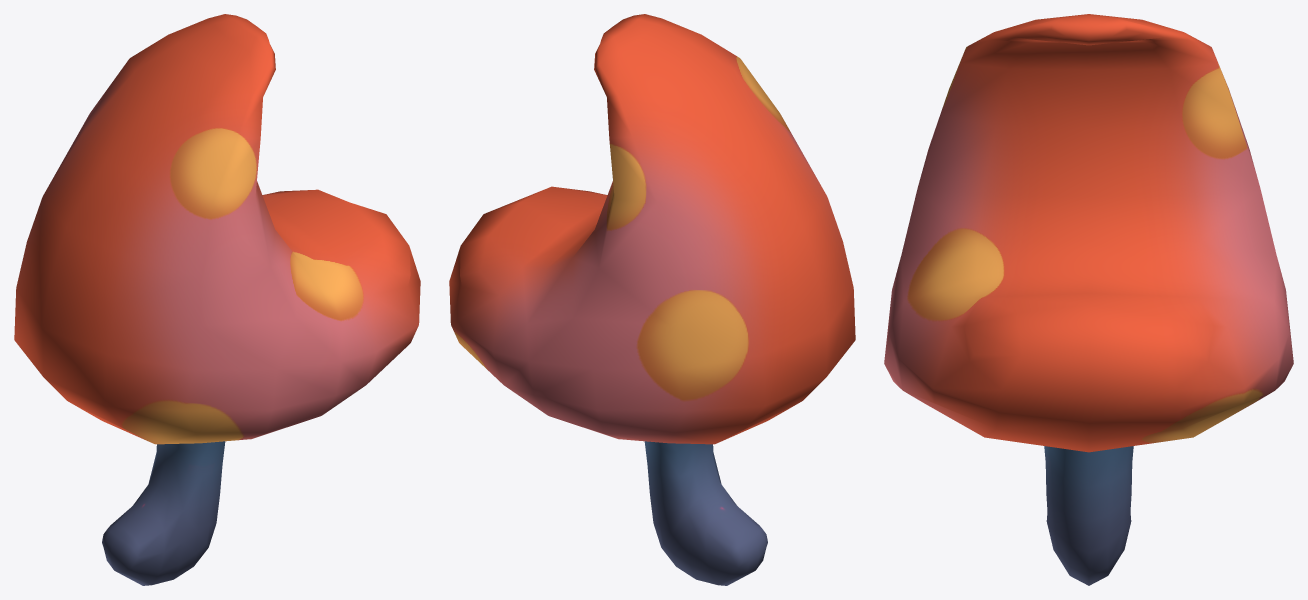
File: CuriosityModel_StageB.FBX
3 views of the same model, side by side, from view 1: azimuth 30°, elevation 25°; view 2: azimuth 150°, elevation 25°; view 3: azimuth 270°, elevation 25° (orthographic). The views are drawn at different scales.
Parts seen in each view (by area): view 1: Pilz1; view 2: Pilz1; view 3: Pilz1.
Part boxes in pixels (<box>): Pilz1: <box>14,14,420,585</box>; Pilz1: <box>449,14,855,585</box>; Pilz1: <box>884,14,1293,585</box>.
Size of the model in its own units: 146 by 215 by 131.
